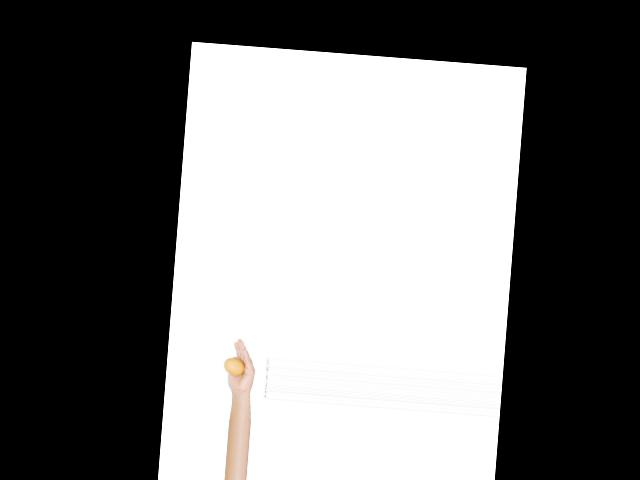egg: (223, 356, 246, 376)
